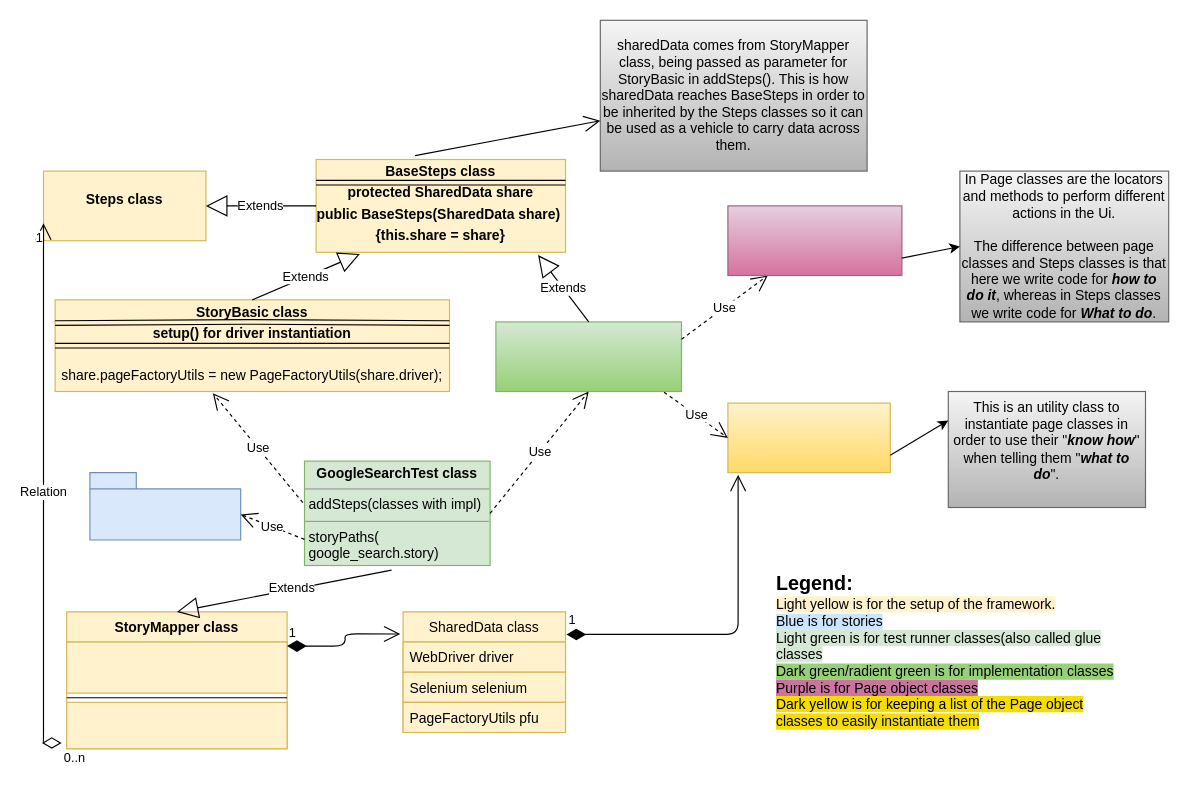
The diagram is 1189 pixels wide and 786 high, and some of its shapes have lost their labels. Each missing label, with the centre of its shape:
"addSteps(); storyPaths(looks for all stories);" belongs at (x=176, y=725).
"google_search.story" belongs at (x=165, y=506).
"GoogleHomePage class" belongs at (x=814, y=240).
"GoogleSearchSteps class" belongs at (x=588, y=356).
"PageFactoryUtils class" belongs at (x=808, y=437).
"SharedData share; share.selenium = new Selenium();" belongs at (x=176, y=667).
